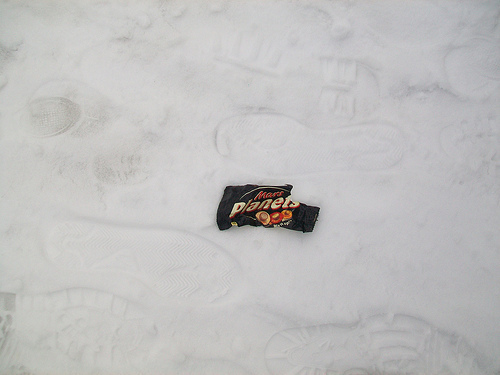litter: (216, 182, 319, 233)
